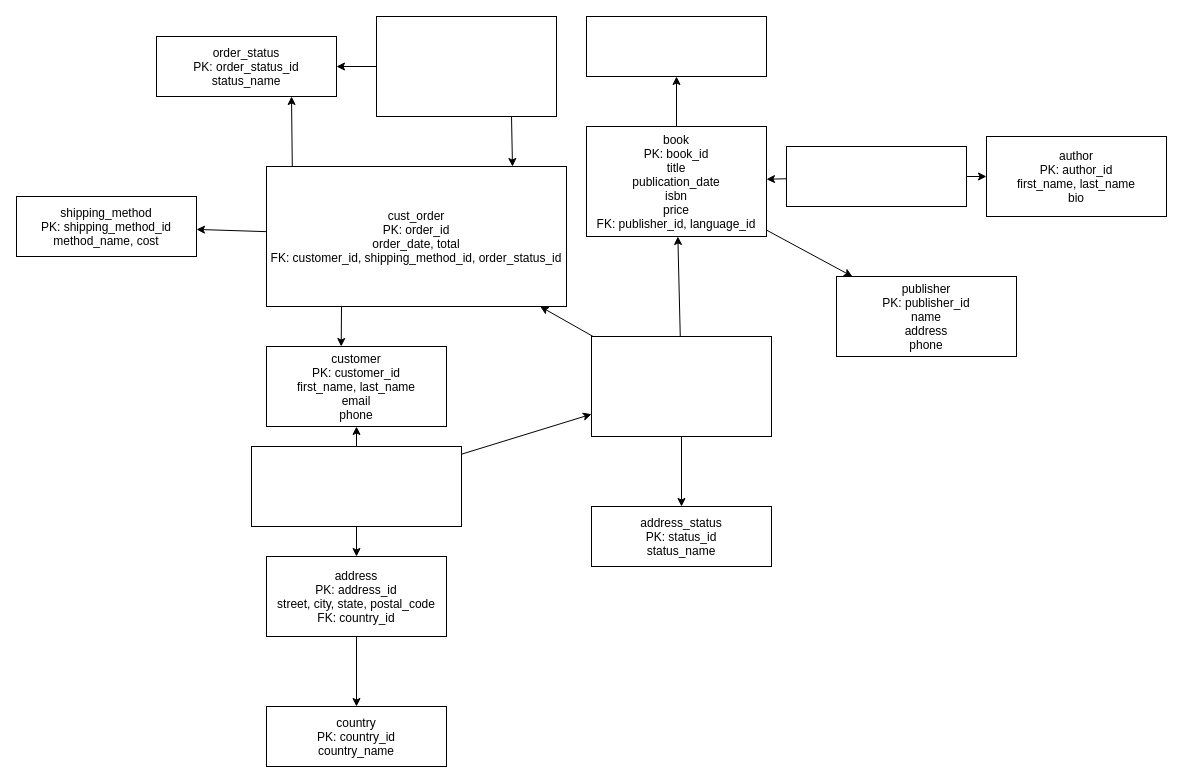
Image size: 1183x783. Some labels were removed from this diagram. The centre of each missing label's shape, as x and y in pixels:
"book_author PK: (book_id, author_id) FK: book_id, author_id" goes at (x=876, y=176).
"book_language PK: language_id language_name" goes at (x=676, y=46).
"customer_address PK: customer_address_id FK: customer_id, address_id, status_id" goes at (x=356, y=486).
"order_history PK: history_id change_date, note FK: order_id, status_id" goes at (x=466, y=66).
"order_line PK: order_line_id quantity, price FK: order_id, book_id" goes at (x=681, y=386).
